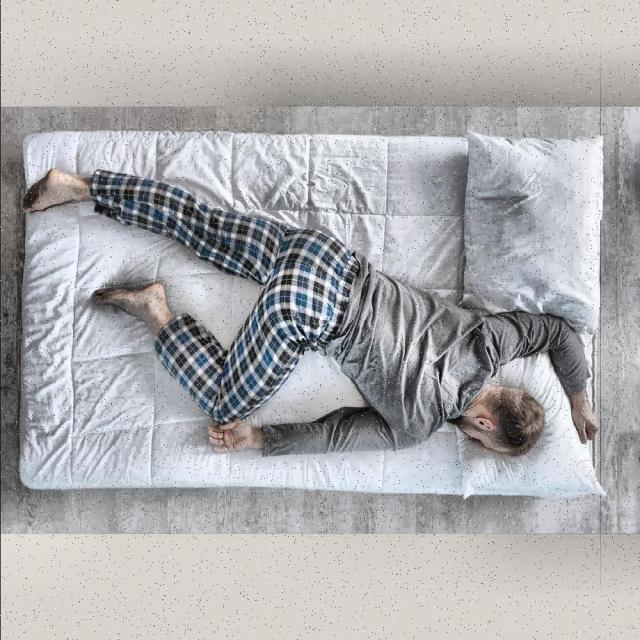Not_Supine: (27, 170, 595, 454)
